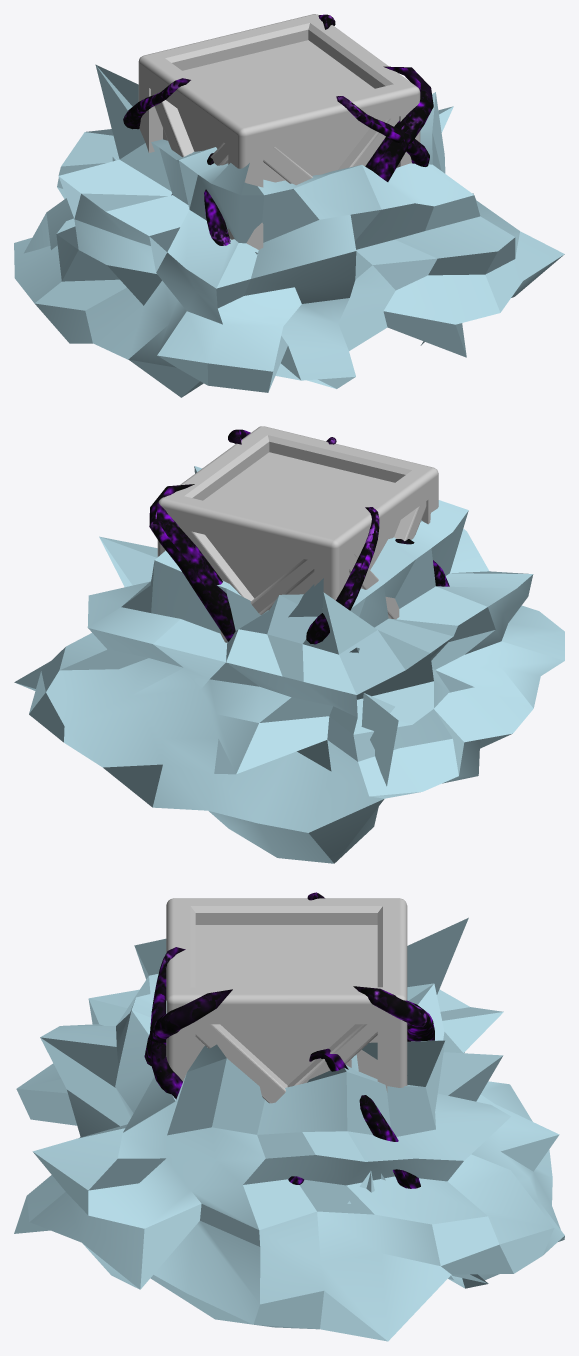
File: Caixa.fbx
3 views of the same model, one above another, from view 1: azimuth 30°, elevation 25°; view 2: azimuth 150°, elevation 25°; view 3: azimuth 270°, elevation 25° (orthographic). The views are drawn at different scales.
Visible parts, largest first — view 1: Gelo, Caixa, Tentaculo; view 2: Gelo, Caixa, Tentaculo; view 3: Gelo, Caixa, Tentaculo.
Part boxes in pixels (<box>): Gelo: <box>14,64,564,397</box>; Caixa: <box>138,14,420,249</box>; Tentaculo: <box>123,14,433,245</box>; Gelo: <box>14,466,564,863</box>; Caixa: <box>157,426,438,642</box>; Tentaculo: <box>149,429,449,644</box>; Gelo: <box>14,917,564,1341</box>; Caixa: <box>166,898,407,1175</box>; Tentaculo: <box>144,892,434,1188</box>.
Size of the model in its own units: 244 by 157 by 229.
